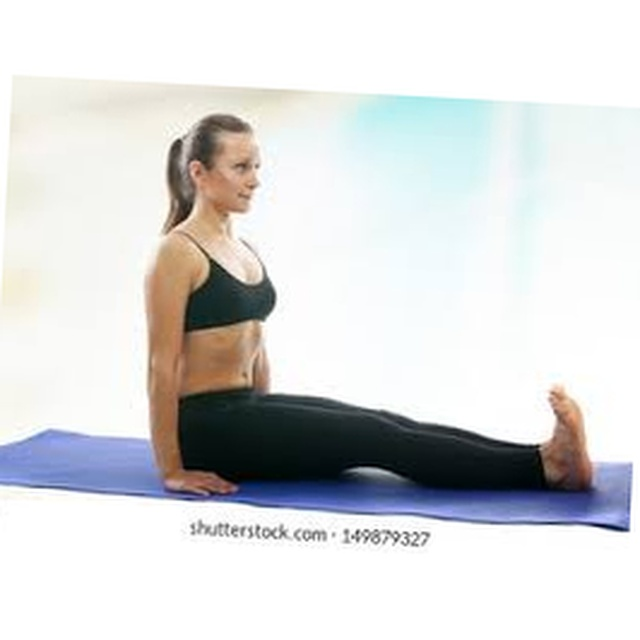Staff_Pose: (142, 112, 595, 500)
